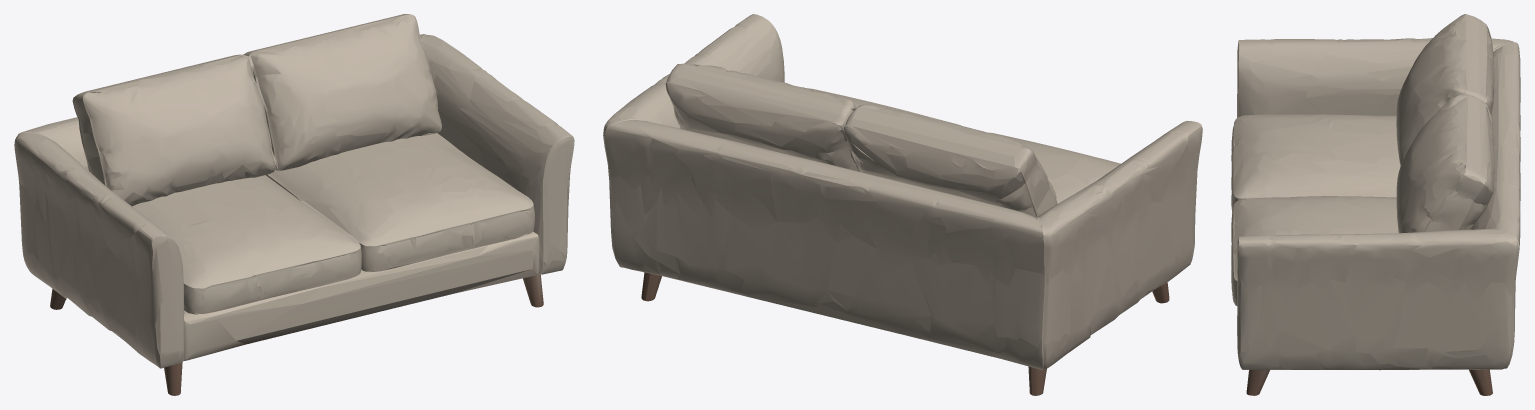
Rendered from sofa.glb.
3 views of the same model, side by side, from view 1: azimuth 30°, elevation 25°; view 2: azimuth 150°, elevation 25°; view 3: azimuth 270°, elevation 25° (orthographic). The views are drawn at different scales.
Visible parts, largest first — view 1: output_unwrapped; view 2: output_unwrapped; view 3: output_unwrapped.
Boxes of the visible parts, x1,y1,x2,y2 form: output_unwrapped: (14, 14, 574, 395); output_unwrapped: (603, 14, 1202, 395); output_unwrapped: (1231, 14, 1520, 395).
Size of the model in its own units: 1.9 by 0.9285 by 1.13.
